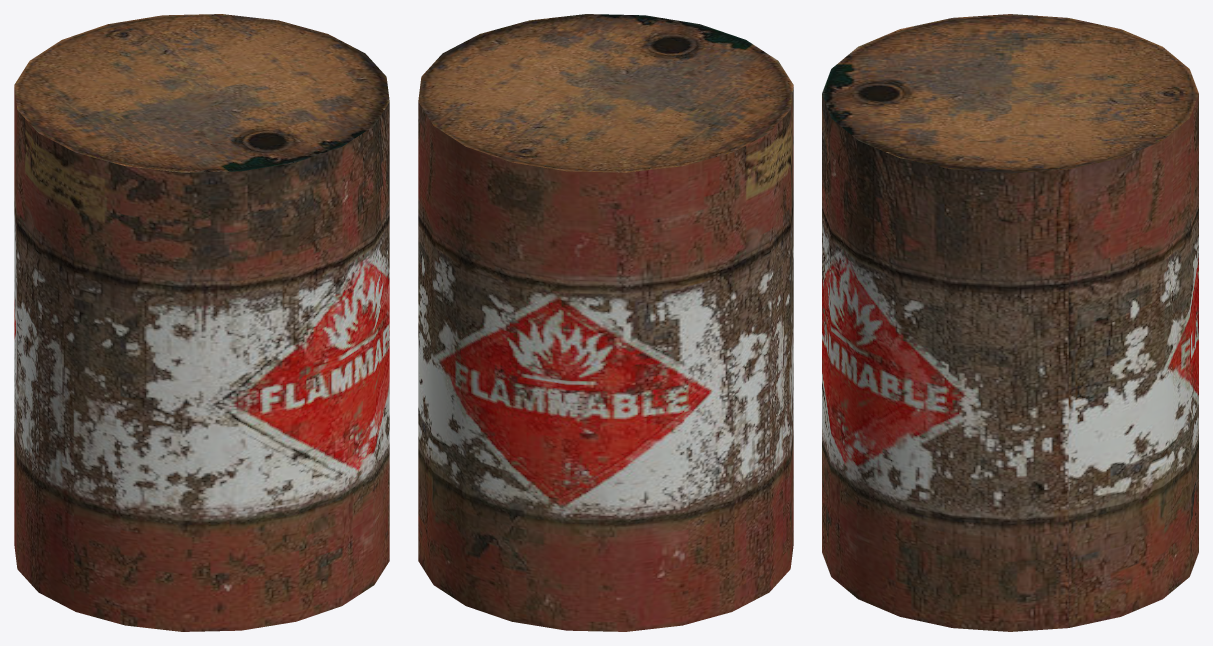
The picture shows the model from 3 angles, left to right: view 1: azimuth 30°, elevation 25°; view 2: azimuth 150°, elevation 25°; view 3: azimuth 270°, elevation 25°; orthographic projection.
Visible parts, largest first — view 1: pCylinder3; view 2: pCylinder3; view 3: pCylinder3.
Part boxes in pixels (x1,y1,x2,y2): pCylinder3: [14, 14, 389, 631]; pCylinder3: [418, 14, 793, 631]; pCylinder3: [822, 14, 1198, 631].
Size of the model in its own units: 4.92 by 6.61 by 4.92.
1 material, 1 textured.
